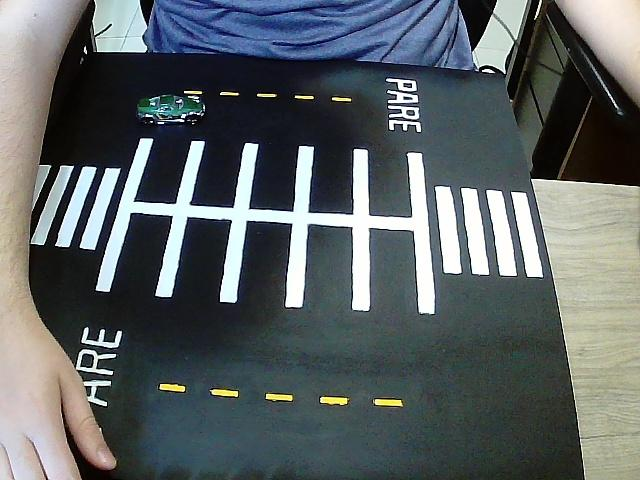Carro: (136, 94, 206, 126)
